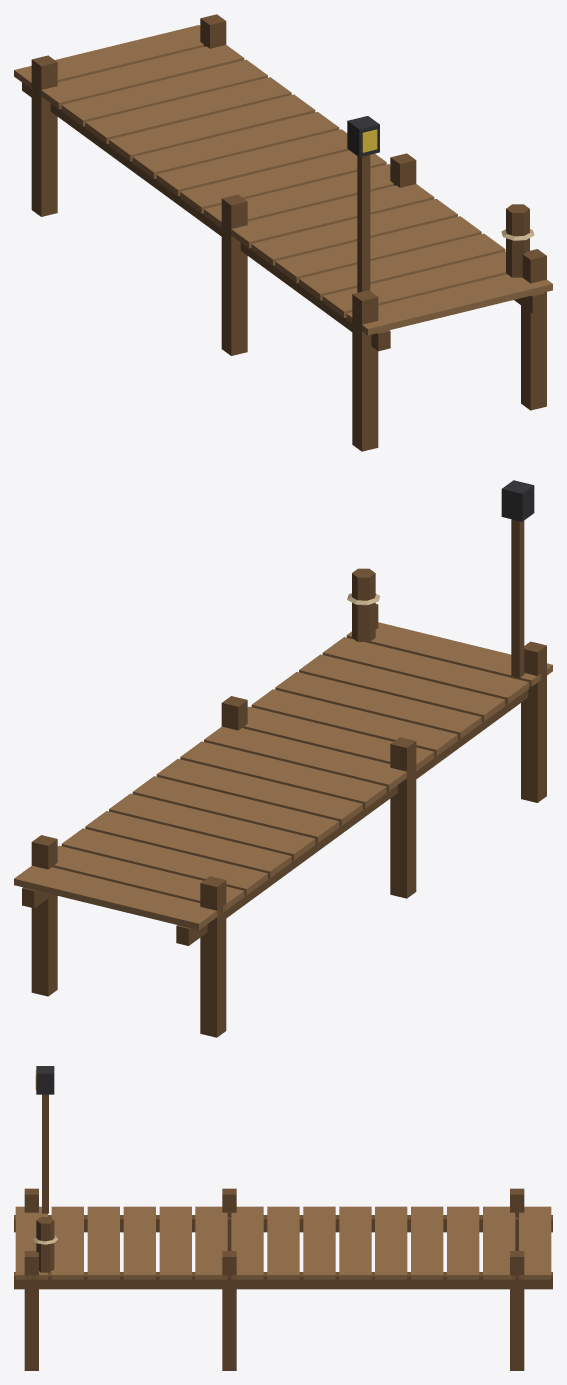
The model's file is dock.gltf.
3 views of the same model, one above another, from view 1: azimuth 30°, elevation 25°; view 2: azimuth 150°, elevation 25°; view 3: azimuth 270°, elevation 25° (orthographic). The views are drawn at different scales.
Parts seen in each view (by area): view 1: dock; view 2: dock; view 3: dock.
Part boxes in pixels (x1=…): dock: x1=14, y1=14, x2=552, y2=451; dock: x1=14, y1=480, x2=552, y2=1037; dock: x1=14, y1=1066, x2=552, y2=1370.
Bounding box in the file's own units: 1.8 × 2.93 × 6.
